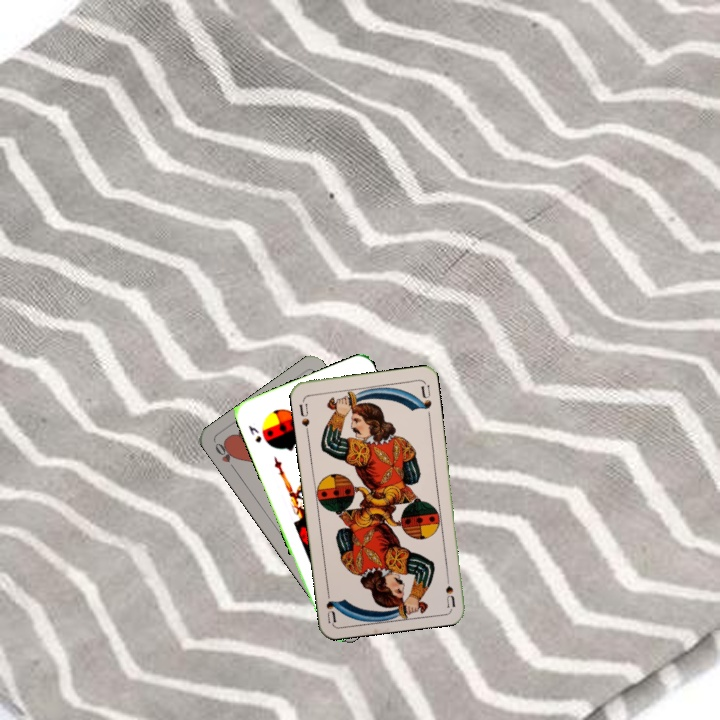HO: (211, 438, 239, 474)
SK: (244, 421, 264, 445)
SU: (441, 568, 458, 609), (295, 396, 312, 436)
